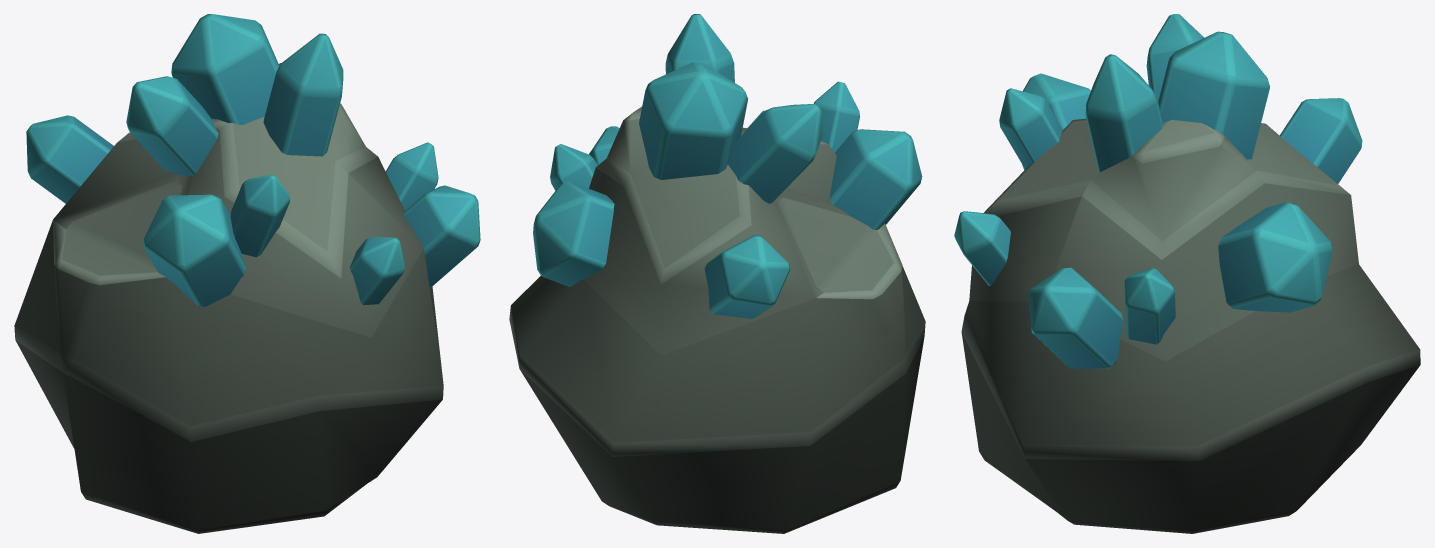
3 views of the same model, side by side, from view 1: azimuth 30°, elevation 25°; view 2: azimuth 150°, elevation 25°; view 3: azimuth 270°, elevation 25° (orthographic). The views are drawn at different scales.
Parts seen in each view (by area): view 1: ore_christal_saphire_L_cube_mat_0.008; view 2: ore_christal_saphire_L_cube_mat_0.008; view 3: ore_christal_saphire_L_cube_mat_0.008.
Part boxes in pixels (box(x1,y1,x2,y2)): ore_christal_saphire_L_cube_mat_0.008: box(14, 14, 480, 533); ore_christal_saphire_L_cube_mat_0.008: box(509, 14, 925, 533); ore_christal_saphire_L_cube_mat_0.008: box(954, 14, 1420, 533).
Bounding box in the file's own units: 191 × 229 × 193.
1 material, 1 textured.
